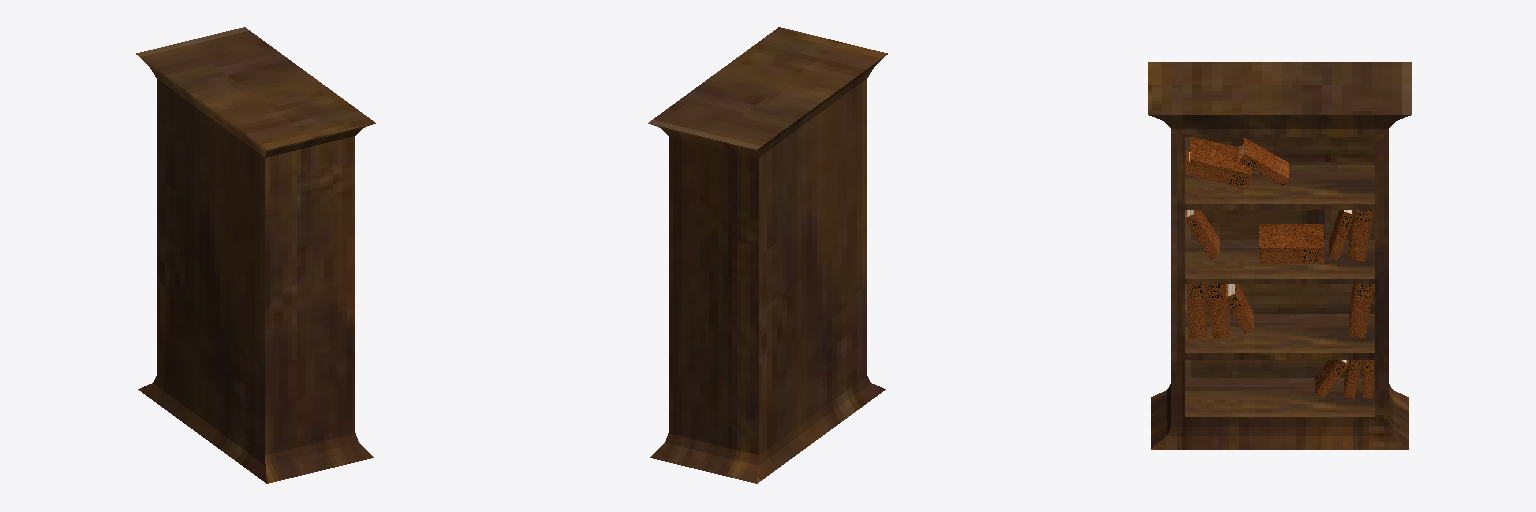
The picture shows the model from 3 angles: view 1: azimuth 30°, elevation 25°; view 2: azimuth 150°, elevation 25°; view 3: azimuth 270°, elevation 25°; orthographic projection.
Parts seen in each view (by area): view 1: bookcase; view 2: bookcase; view 3: bookcase, book3, book2, book4, book1, book, book5, book7.
Boxes of the visible parts, x1=… form: bookcase: x1=136, y1=27, x2=375, y2=483; bookcase: x1=648, y1=27, x2=887, y2=483; bookcase: x1=1148, y1=62, x2=1411, y2=449; book3: x1=1186, y1=137, x2=1373, y2=337; book2: x1=1226, y1=137, x2=1373, y2=398; book4: x1=1259, y1=224, x2=1323, y2=263; book1: x1=1205, y1=284, x2=1229, y2=338; book: x1=1187, y1=284, x2=1206, y2=338; book5: x1=1185, y1=210, x2=1219, y2=259; book7: x1=1315, y1=360, x2=1348, y2=397.
Size of the model in its own units: 1.16 by 3.4 by 2.42.
2 materials, 2 textured.